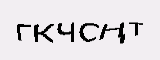Е: (64, 17, 76, 37)
И: (98, 5, 125, 29)
К: (76, 9, 94, 33)
Ч: (35, 19, 49, 39)
Ю: (51, 17, 65, 37)
